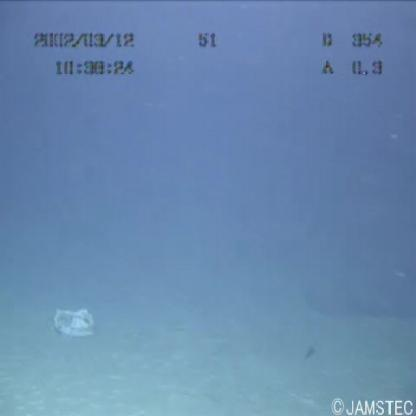Rác: (30, 295, 100, 343)
